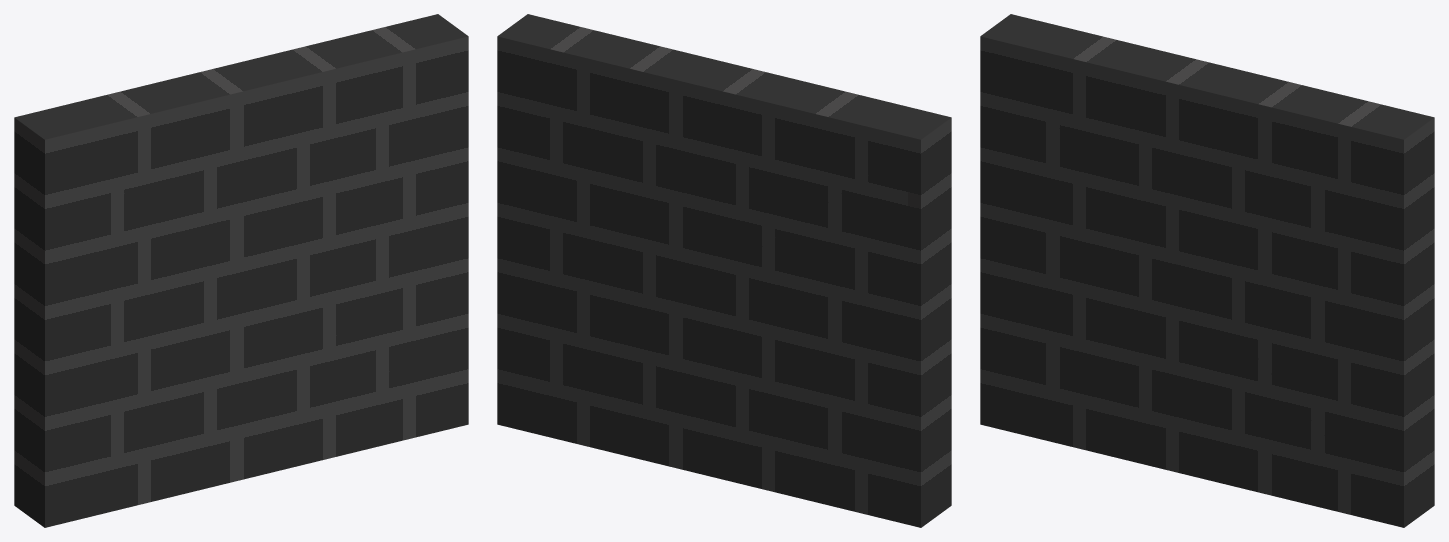
The model's file is wallll.gltf.
3 renders of one model, left to right at view 1: azimuth 30°, elevation 25°; view 2: azimuth 150°, elevation 25°; view 3: azimuth 330°, elevation 25°, orthographic.
Parts seen in each view (by area): view 1: Wall; view 2: Wall; view 3: Wall.
Part boxes in pixels (left/top/right/bottom): Wall: left=14, top=14, right=468, bottom=527; Wall: left=497, top=14, right=951, bottom=527; Wall: left=980, top=14, right=1434, bottom=527.
Size of the model in its own units: 1 by 0.875 by 0.125.
Materials: 1 (1 with a texture image).
